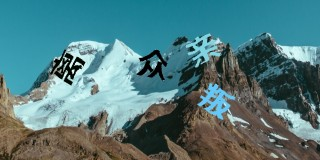亲: (185, 31, 221, 68)
众: (137, 48, 168, 82)
叛: (197, 81, 235, 121)
离: (49, 48, 86, 85)
